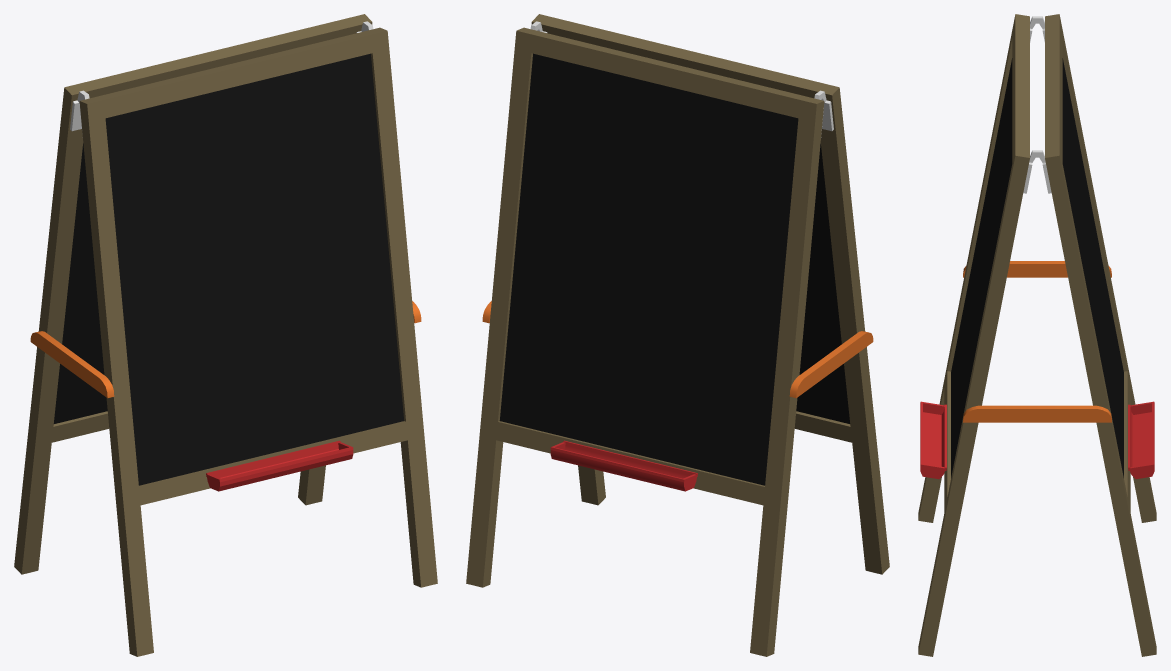
Rendered from board_2.fbx.
The picture shows the model from 3 angles, left to right: view 1: azimuth 30°, elevation 25°; view 2: azimuth 150°, elevation 25°; view 3: azimuth 270°, elevation 25°; orthographic projection. The views are drawn at different scales.
Visible parts, largest first — view 1: Board.001, Board, Holder.001, Cube.001; view 2: Board, Board.001, Holder, Cube.001; view 3: Board, Board.001, Cube.001, Holder, Holder.001, Cube.
Boxes of the visible parts, x1=… form: Board.001: x1=79, y1=27, x2=437, y2=656; Board: x1=14, y1=14, x2=372, y2=574; Holder.001: x1=206, y1=440, x2=353, y2=491; Cube.001: x1=30, y1=301, x2=421, y2=398; Board: x1=466, y1=27, x2=824, y2=656; Board.001: x1=531, y1=14, x2=889, y2=574; Holder: x1=550, y1=440, x2=697, y2=491; Cube.001: x1=482, y1=301, x2=873, y2=398; Board: x1=1045, y1=14, x2=1156, y2=656; Board.001: x1=918, y1=14, x2=1029, y2=656; Cube.001: x1=963, y1=261, x2=1111, y2=422; Holder: x1=1128, y1=401, x2=1154, y2=479; Holder.001: x1=920, y1=401, x2=946, y2=479; Cube: x1=1023, y1=16, x2=1051, y2=193.
Size of the model in its own units: 9400 by 14858 by 6394.
